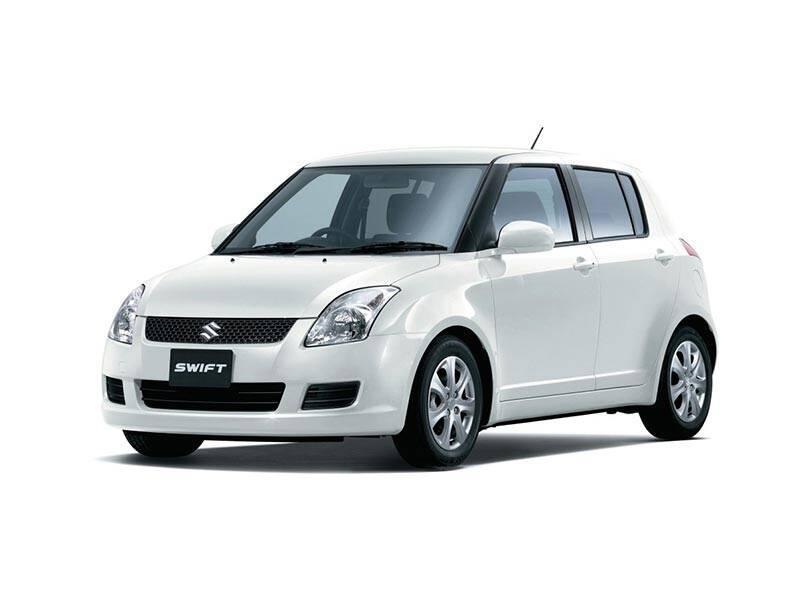Hatchback: (95, 150, 722, 469)
